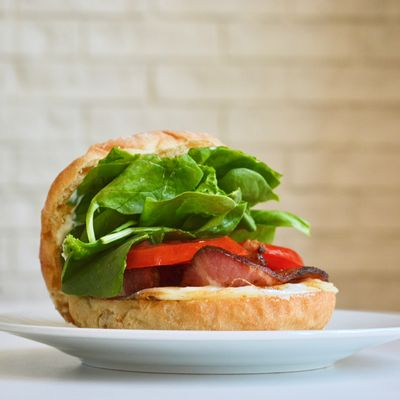soup: (37, 127, 335, 332)
